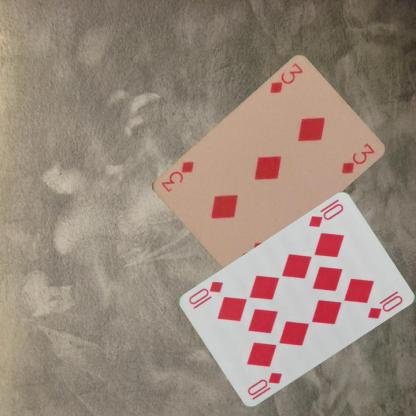10d: (244, 370, 284, 402), (306, 201, 345, 229)
3d: (266, 61, 304, 96)
